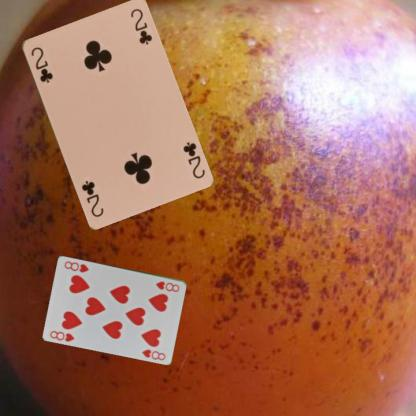2c: (180, 138, 206, 180), (28, 44, 54, 84)
8h: (153, 278, 181, 293), (47, 328, 76, 342)
